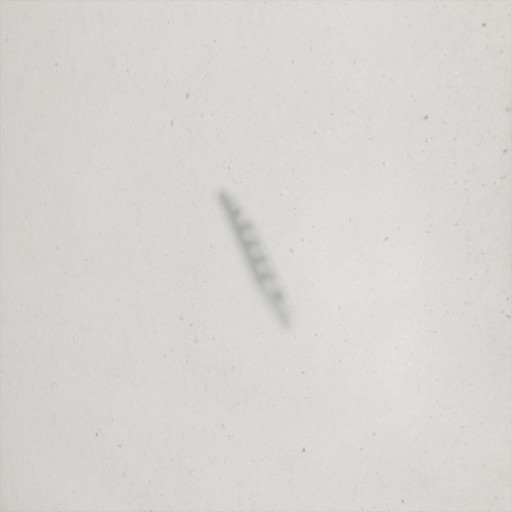lego: (214, 187, 295, 333)
